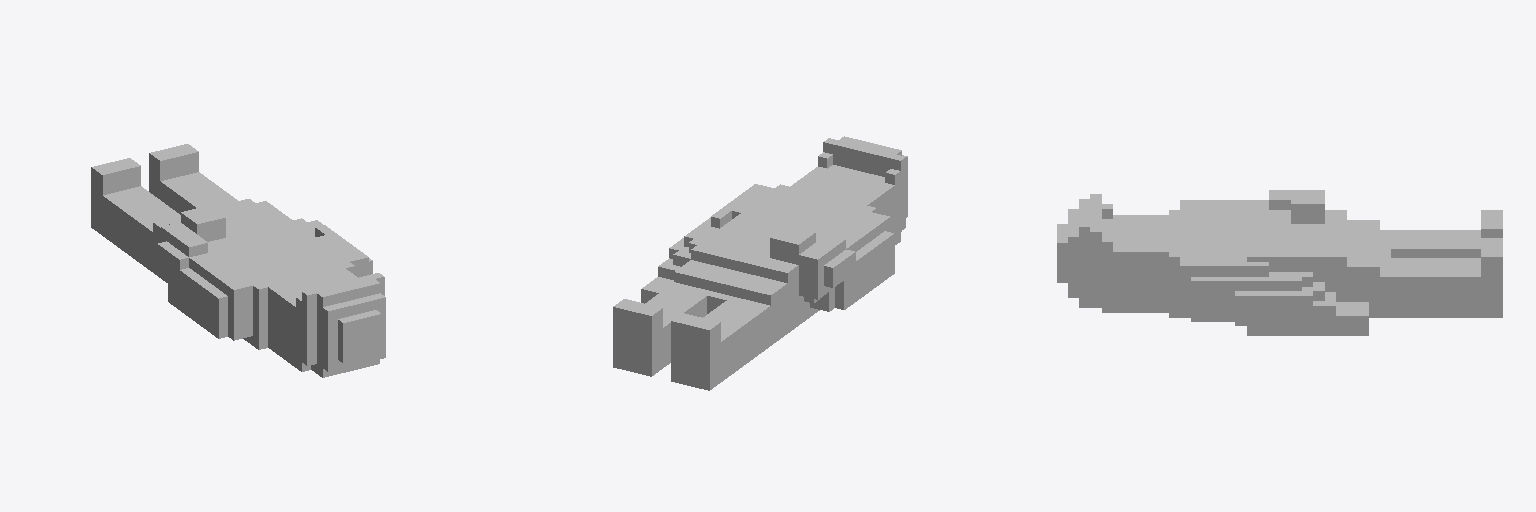
File: dead person.obj
The picture shows the model from 3 angles: view 1: azimuth 30°, elevation 25°; view 2: azimuth 150°, elevation 25°; view 3: azimuth 270°, elevation 25°; orthographic projection.
Visible parts, largest first — view 1: object 1; view 2: object 1; view 3: object 1.
Part boxes in pixels (x1,y1,x2,y2): object 1: (91,144,385,377); object 1: (613,136,907,390); object 1: (1057,190,1502,335).
Size of the model in its own units: 1.7 by 0.8 by 4.